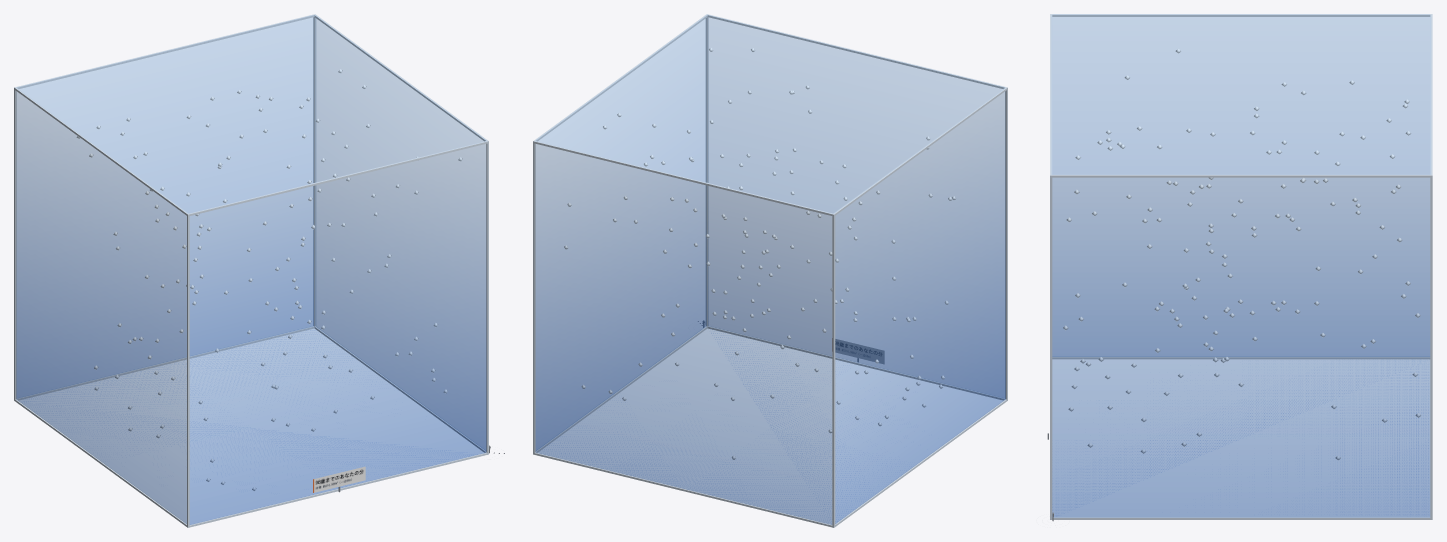
File: cube_life_98.glb
3 views of the same model, side by side, from view 1: azimuth 30°, elevation 25°; view 2: azimuth 150°, elevation 25°; view 3: azimuth 270°, elevation 25° (orthographic). The views are drawn at different scales.
Parts seen in each view (by area): view 1: co2, edge, dots, label; view 2: co2, edge, dots, label; view 3: co2, edge, dots.
Part boxes in pixels (box(x1,y1,x2,y2)): co2: box(16, 15, 486, 524); edge: box(14, 14, 488, 527); dots: box(76, 69, 462, 491); label: box(313, 466, 365, 492); co2: box(535, 15, 1005, 524); edge: box(533, 14, 1007, 527); dots: box(564, 47, 956, 459); label: box(835, 339, 884, 363); co2: box(1051, 14, 1430, 517); edge: box(1050, 14, 1432, 519); dots: box(1063, 48, 1420, 460).
Bounding box in the file's own units: 71.95 × 68.18 × 71.05.
Materials: 8 (3 with a texture image).
